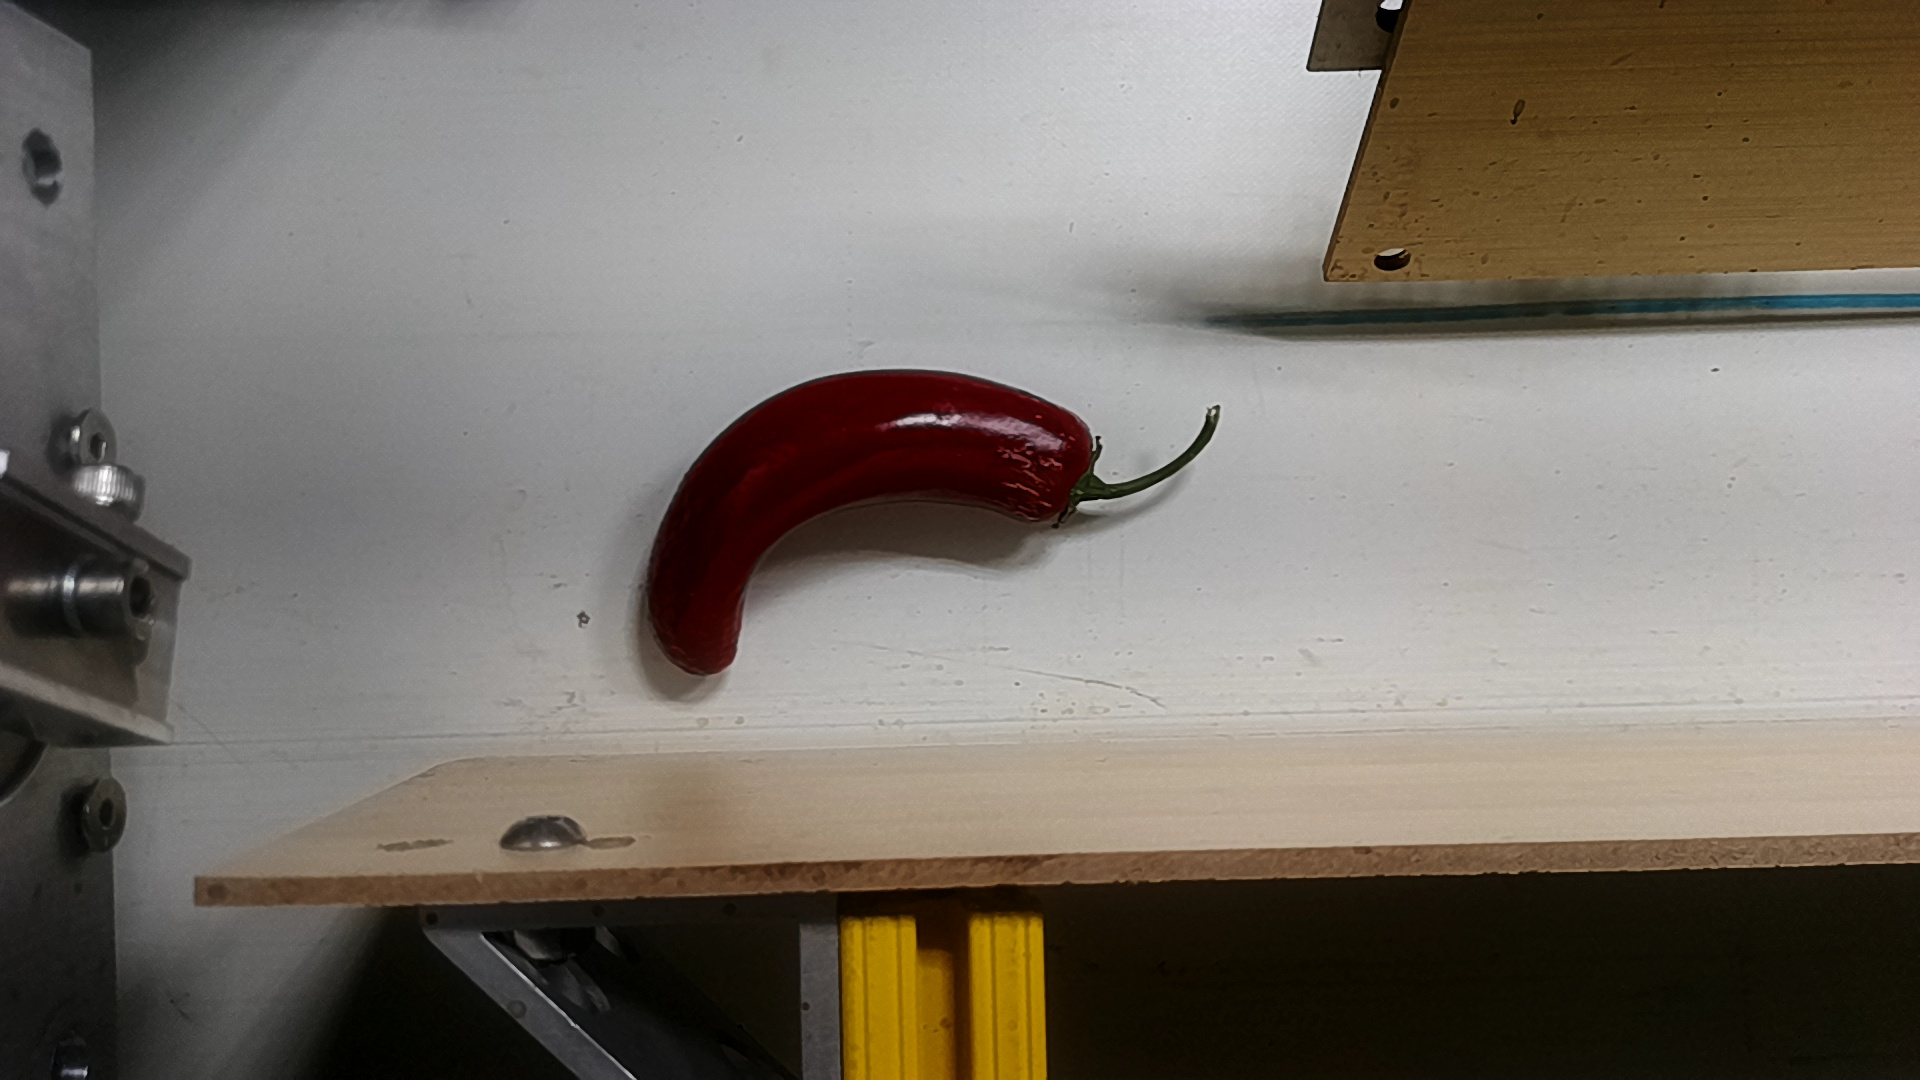Cut Point: (1011, 392, 1143, 556)
